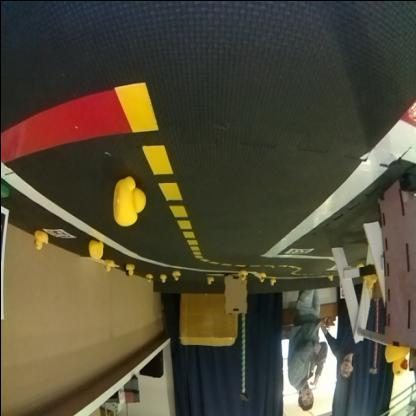Duckie: (110, 176, 145, 226), (383, 345, 407, 376), (87, 240, 102, 259), (32, 230, 46, 250), (103, 259, 113, 272), (124, 264, 132, 276), (170, 271, 178, 281), (238, 270, 245, 280), (144, 274, 152, 282), (158, 275, 165, 283), (257, 274, 264, 282), (268, 278, 275, 286), (206, 277, 212, 285), (326, 274, 332, 282)
QR code: (43, 228, 74, 238), (283, 248, 312, 255)
